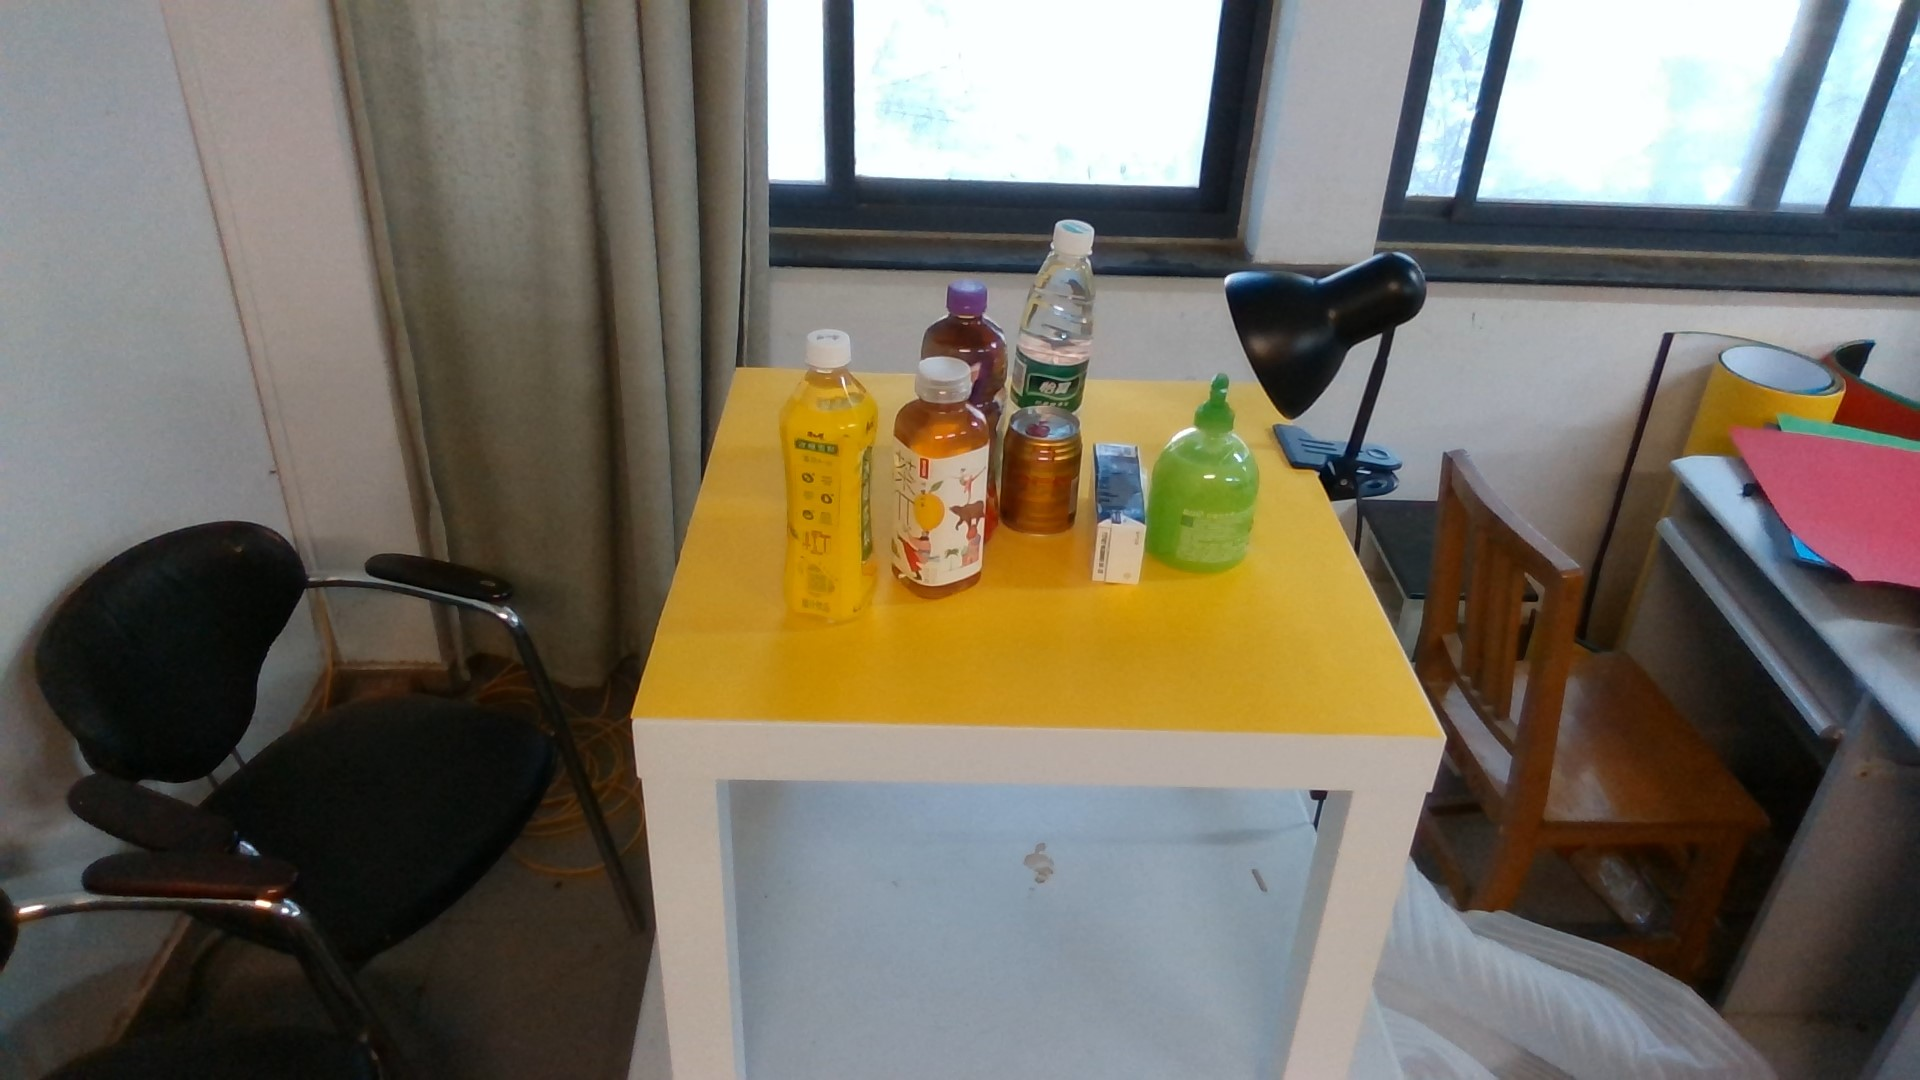BB010: (1091, 444, 1149, 585)
ZA002: (1149, 367, 1261, 578)
ZC004: (1001, 411, 1083, 534)
ZC009: (927, 280, 1007, 356)
ZC011: (783, 327, 877, 622)
ZC012: (893, 357, 984, 596)
ZC017: (1011, 218, 1095, 410)
